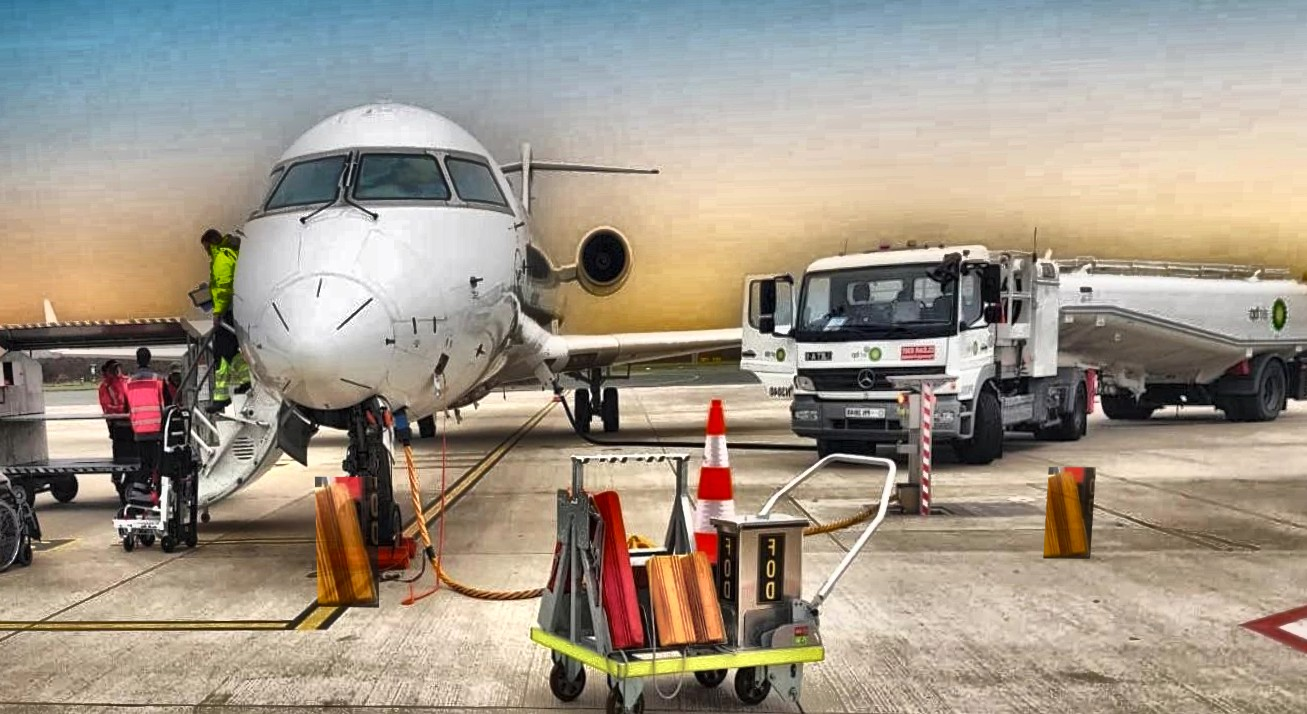chock: (583, 489, 648, 652), (315, 477, 379, 608), (679, 548, 730, 646), (646, 551, 697, 648), (1044, 467, 1096, 559)
wheel: (944, 387, 1004, 465), (1225, 358, 1290, 424), (1048, 373, 1092, 439), (1097, 379, 1163, 419), (815, 435, 875, 465), (334, 497, 368, 549), (371, 495, 402, 549), (48, 473, 81, 503)
